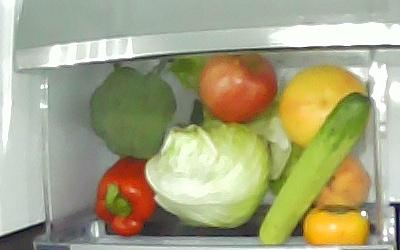apple: (199, 53, 276, 124)
broccoli: (86, 68, 176, 162)
cucumber: (259, 93, 369, 247)
grapefruit: (280, 66, 364, 150)
lettuce: (141, 118, 270, 229)
paprika: (96, 157, 159, 236)
peach: (316, 154, 371, 207)
persimmon: (303, 205, 369, 246)
